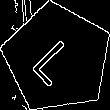L_NE: (29, 29, 86, 87)
